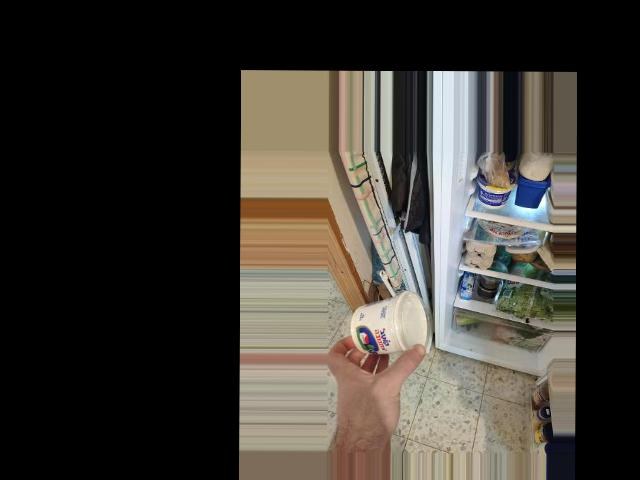cotage: (347, 288, 430, 366)
